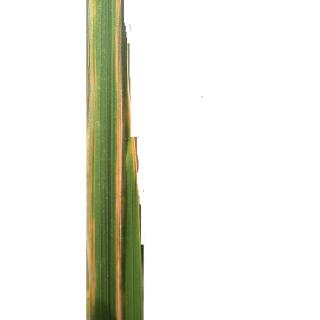Hawar-Daun: (93, 30, 150, 299)
